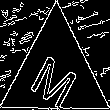M_NE: (27, 39, 84, 106)
